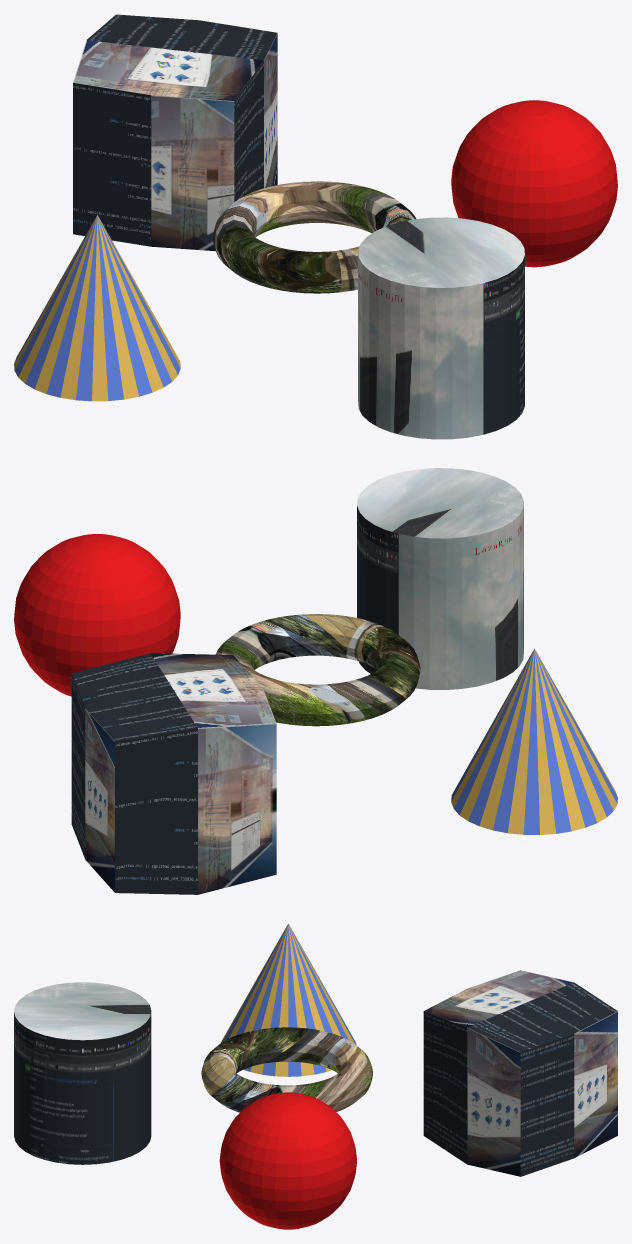
File: shapes.glb
3 views of the same model, one above another, from view 1: azimuth 30°, elevation 25°; view 2: azimuth 150°, elevation 25°; view 3: azimuth 270°, elevation 25° (orthographic). The views are drawn at different scales.
Visible parts, largest first — view 1: Cube, Cylinder, Sphere, Cone, Torus; view 2: Cube, Cylinder, Sphere, Cone, Torus; view 3: Cube, Cylinder, Sphere, Torus, Cone.
Boxes of the visible parts, box(x1,y1,x2,y2) form: Cube: box(73, 14, 277, 251); Cylinder: box(358, 217, 524, 439); Sphere: box(451, 100, 617, 267); Cone: box(14, 215, 180, 401); Torus: box(212, 181, 416, 293); Cube: box(71, 653, 276, 894); Cylinder: box(357, 468, 523, 689); Sphere: box(14, 534, 180, 696); Cone: box(451, 648, 617, 834); Torus: box(215, 614, 420, 726); Cube: box(423, 970, 617, 1176); Cylinder: box(14, 982, 151, 1164); Sphere: box(219, 1092, 356, 1229); Torus: box(201, 1027, 372, 1112); Cone: box(221, 923, 356, 1076).
Size of the model in its own units: 8.04 by 2.2 by 8.79.
7 materials, 4 textured.
